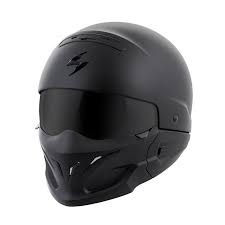helmet: (32, 16, 201, 214)
